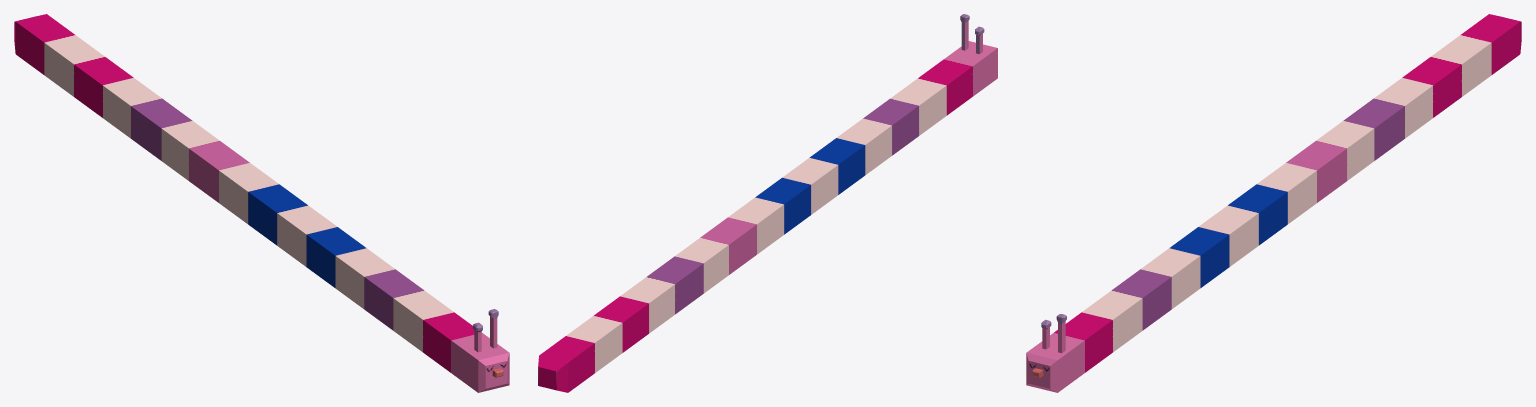
Rendered from biworm.glb.
The picture shows the model from 3 angles, left to right: view 1: azimuth 30°, elevation 25°; view 2: azimuth 150°, elevation 25°; view 3: azimuth 330°, elevation 25°; orthographic projection. The views are drawn at different scales.
Parts seen in each view (by area): view 1: Cube; view 2: Cube; view 3: Cube.
Part boxes in pixels (x1,y1,x2,y2): Cube: (14, 14, 509, 392); Cube: (538, 14, 997, 392); Cube: (1026, 14, 1521, 392).
Size of the model in its own units: 13.9 by 29.35 by 366.
Materials: 1 (1 with a texture image).
